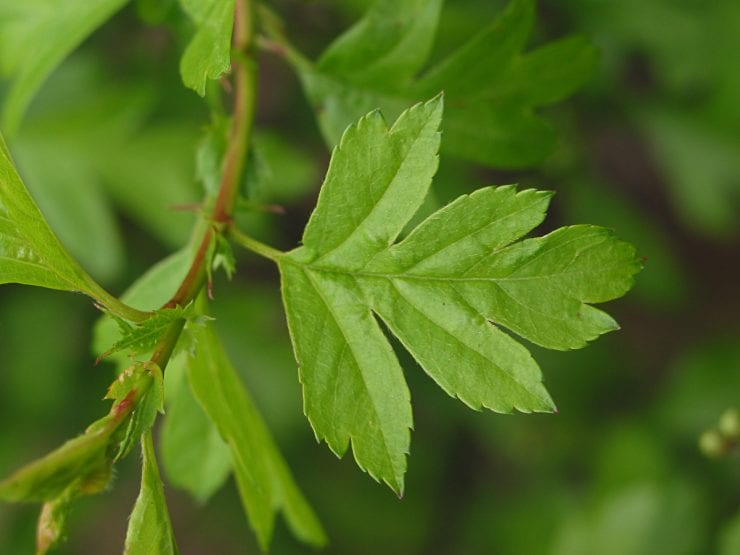healthy: (254, 97, 659, 517)
